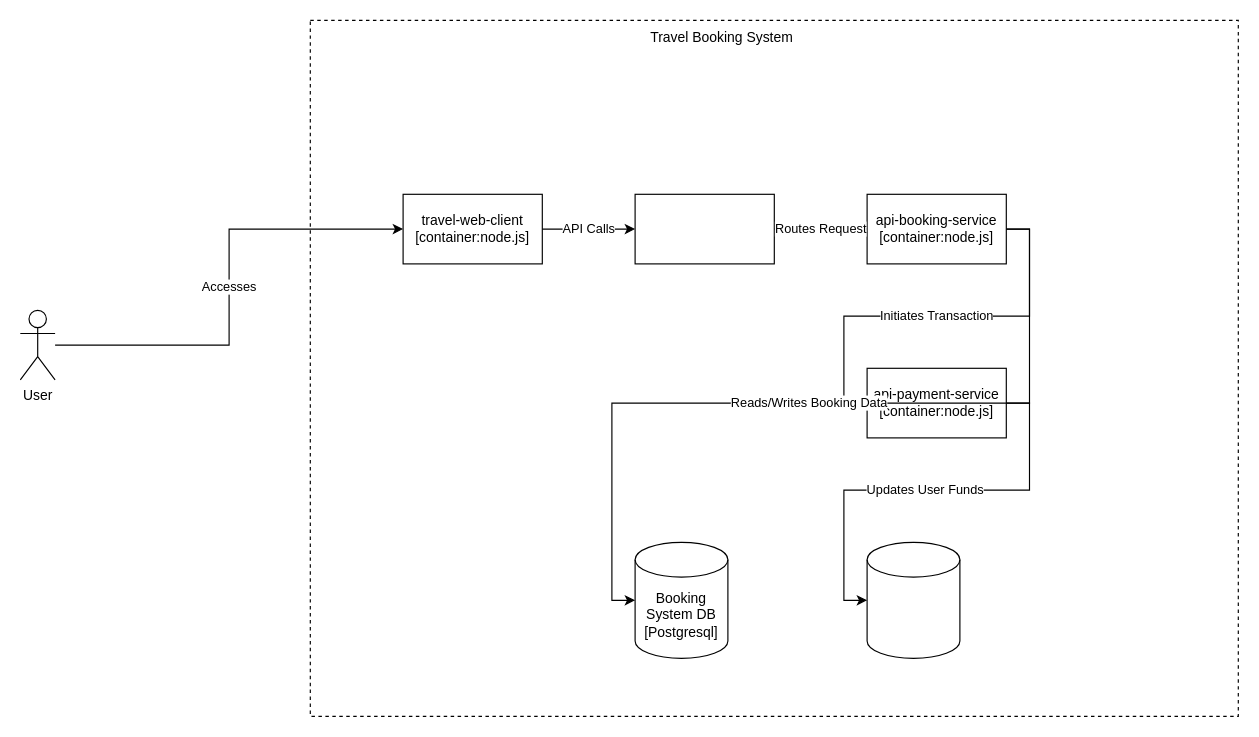
Some shapes in this 1259 by 737 pixel diagram are drawn without their labels. Each missing label, with the box of its shape:
api-gateway [container:node.js]: (634, 193, 774, 264)
User System DB [Postgresql]: (866, 541, 960, 658)
